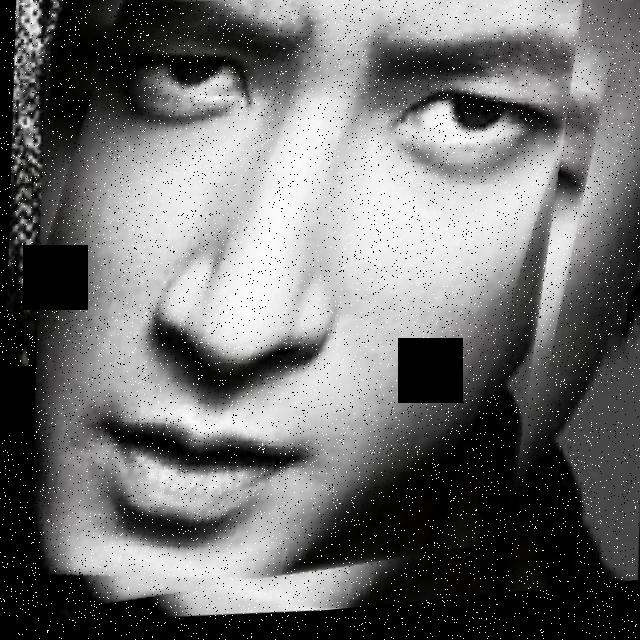anger: (15, 0, 602, 639)
